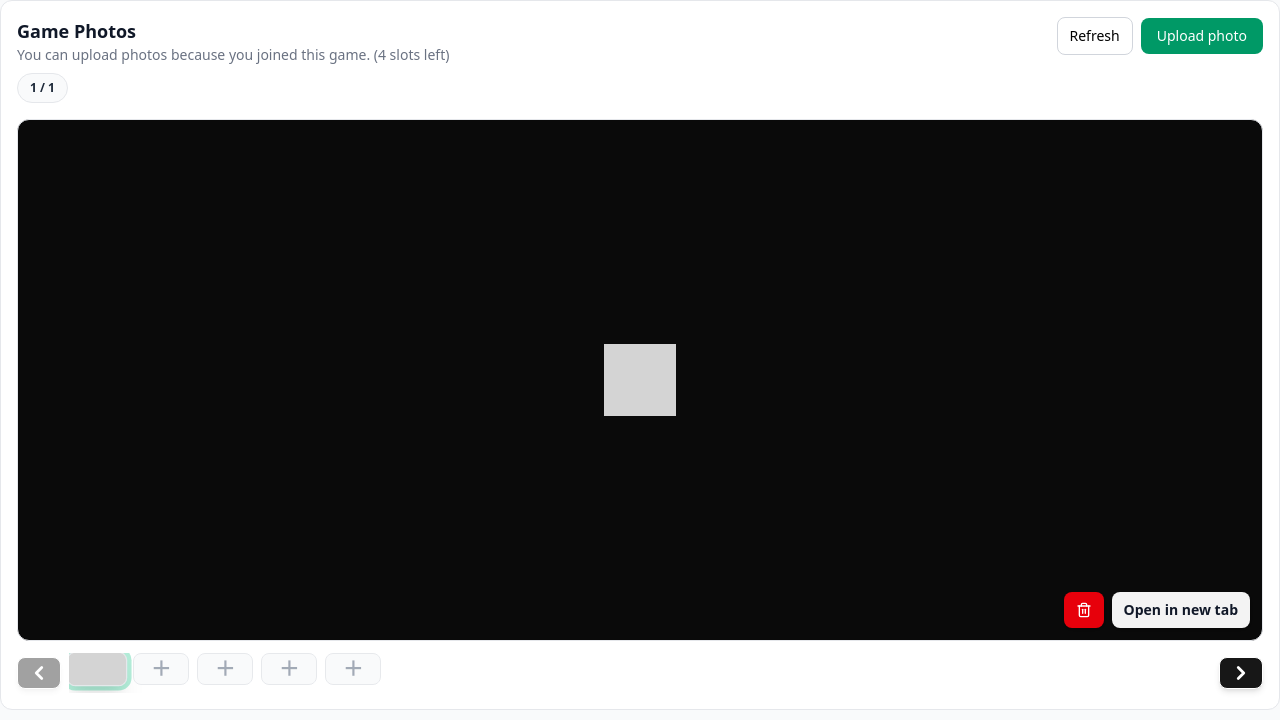
Scenario: US 7.15: Action Feedback & Confirmation Messages › Confirmation Dialogs › Delete Photo Confirmation › should warn that delete is irreversible
Click the button titled "Delete this photo". click: click(1084, 610)
box: [1064,592,1104,628]
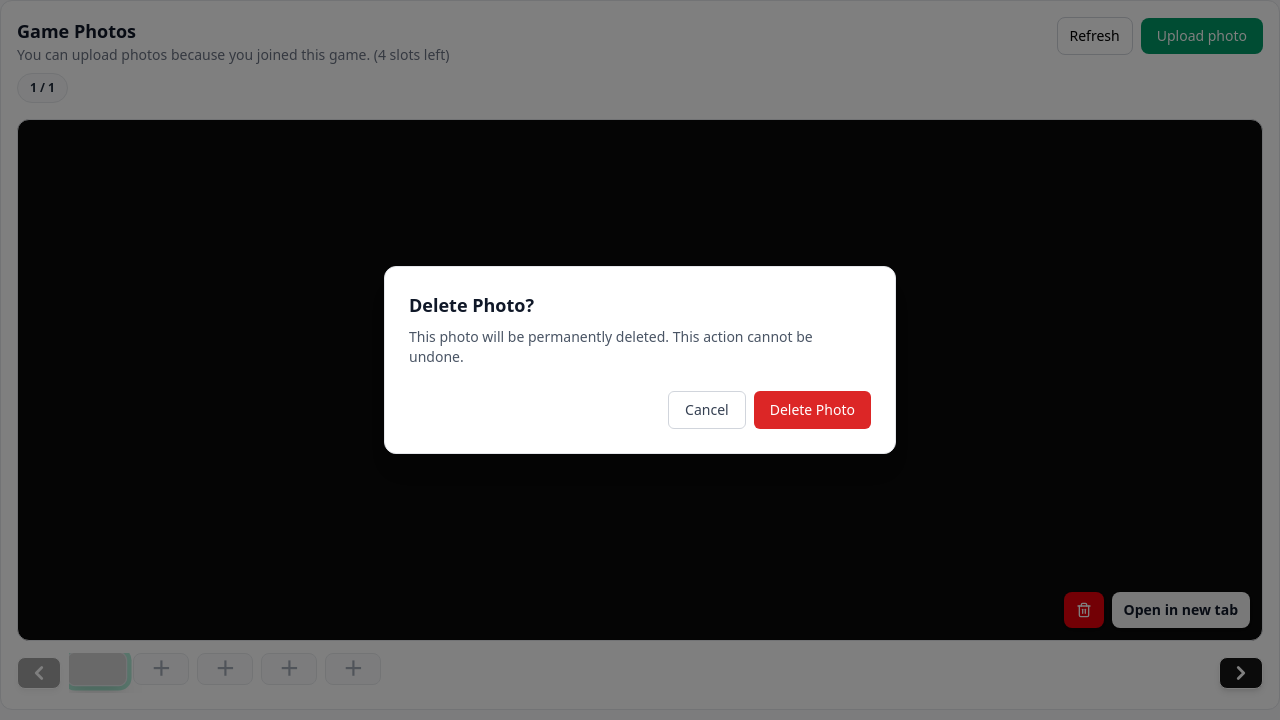
expect the heading "Delete Photo?" is shown: met, box [409,293,534,317]
expect the text "This action cannot be undone" is shown: met, box [409,327,813,366]
